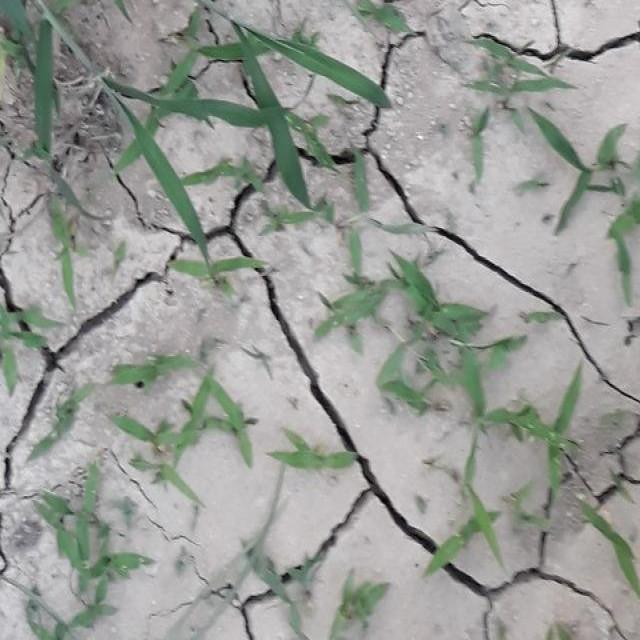weed: (38, 25, 378, 205), (354, 264, 503, 404), (118, 367, 256, 500), (468, 45, 583, 168)
